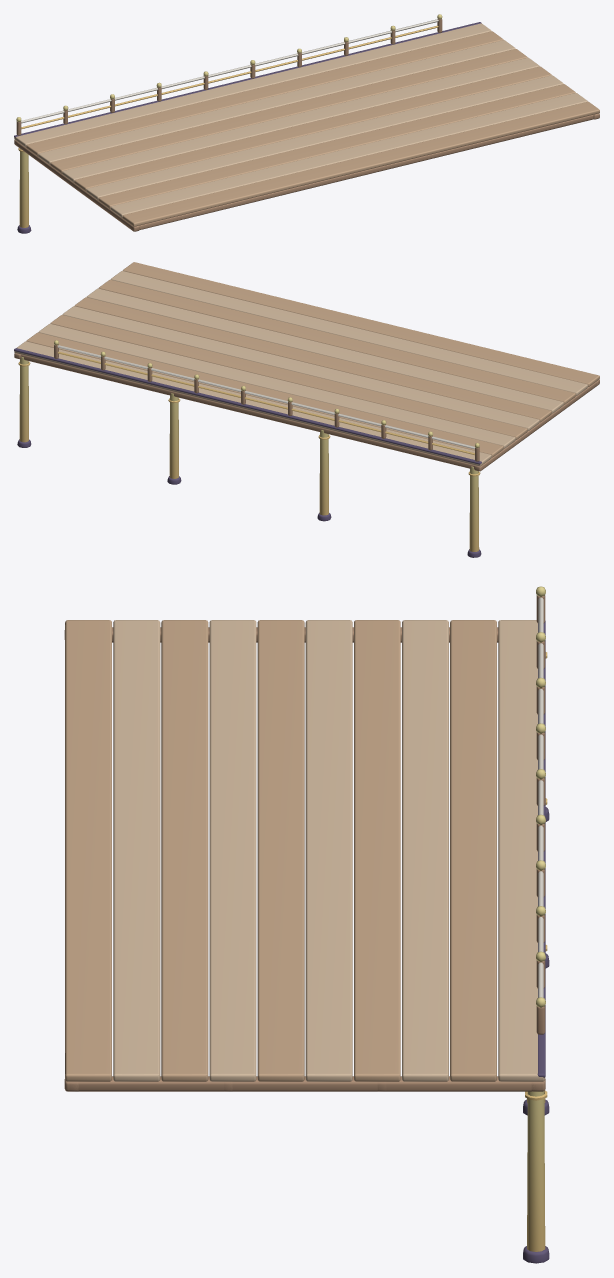
File: floor2.glb
3 renders of one model, top to bottom at view 1: azimuth 30°, elevation 25°; view 2: azimuth 150°, elevation 25°; view 3: azimuth 270°, elevation 25°, orthographic. The views are drawn at different scales.
Visible parts, largest first — view 1: Body; view 2: Body; view 3: Body.
Part boxes in pixels (<box>): Body: <box>14,14,599,233</box>; Body: <box>14,262,599,557</box>; Body: <box>64,586,549,1263</box>.
Size of the model in its own units: 112 by 26.2 by 50.38.
